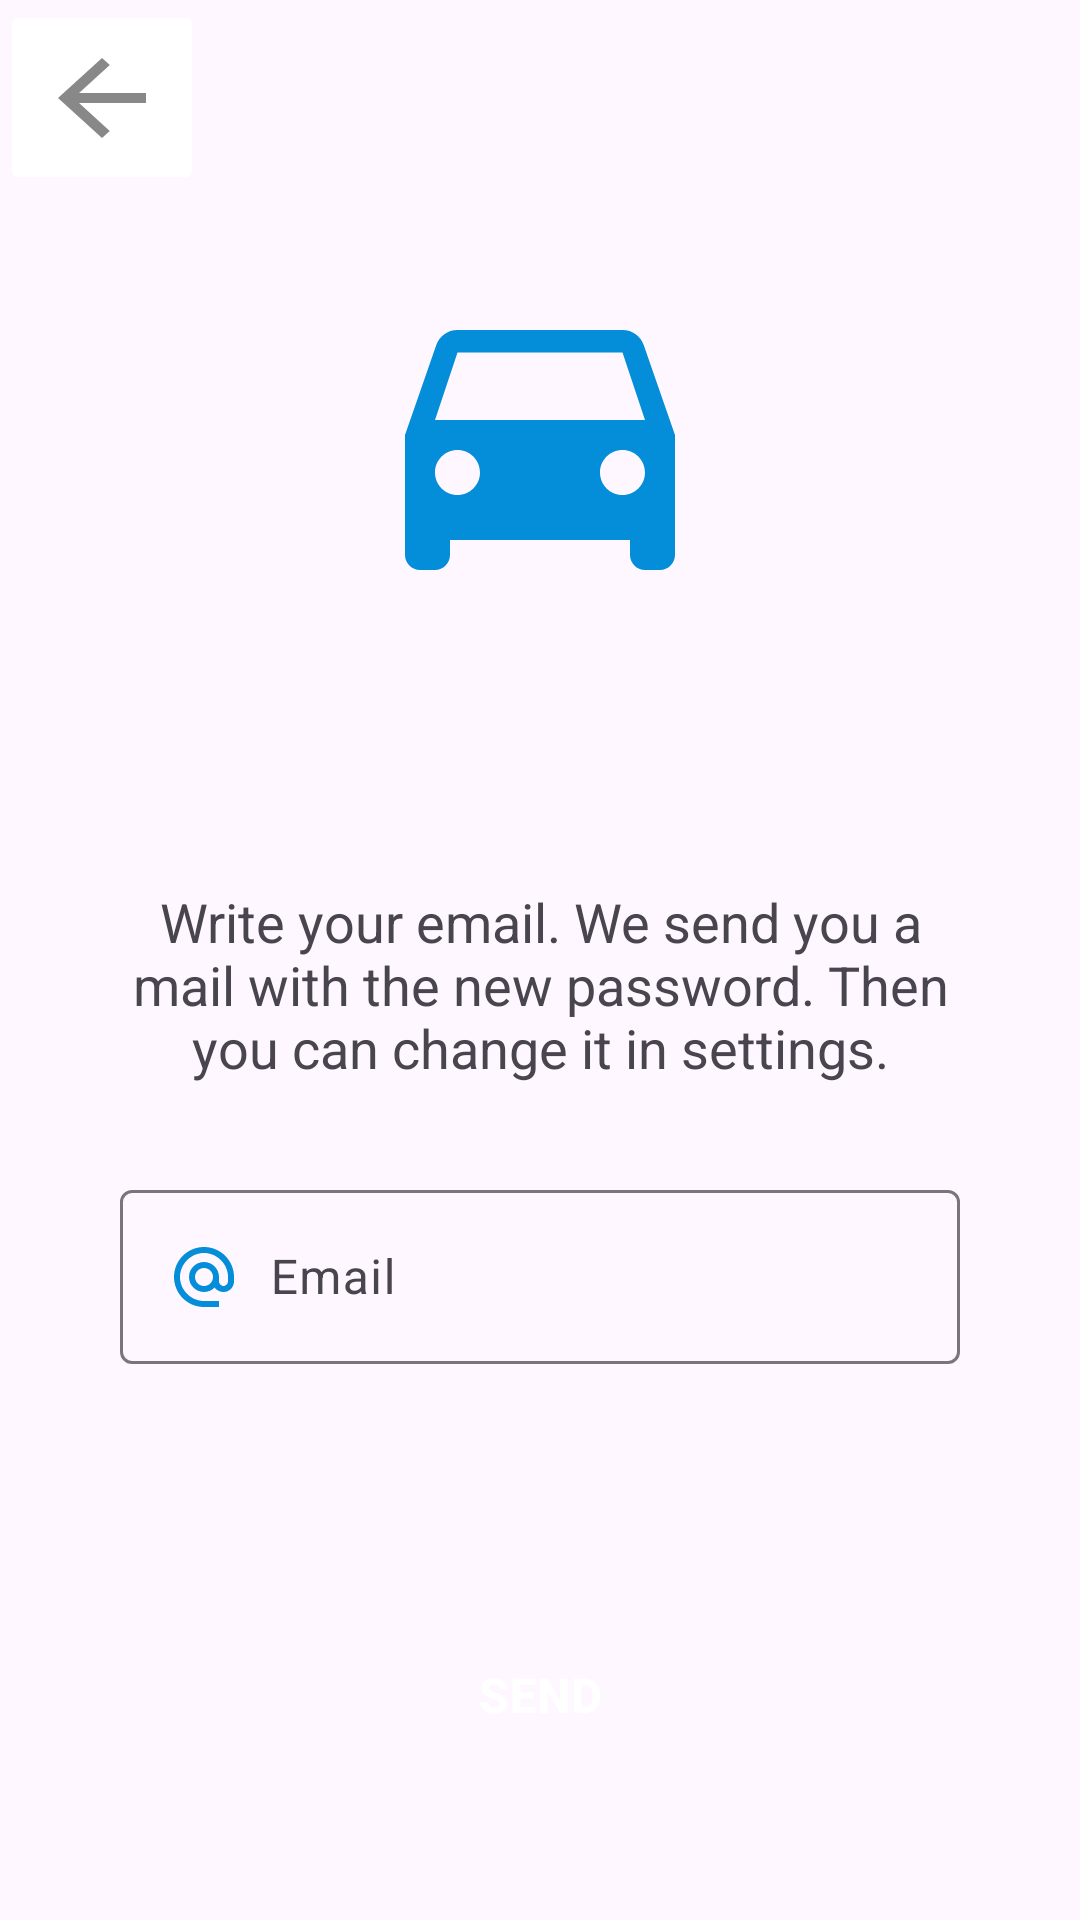

Named icons in this screenshot (1080x1920) and their bounding boxes, bbox=(x1, y1, x2, y2):
go back: bbox=(58, 58, 146, 138)
